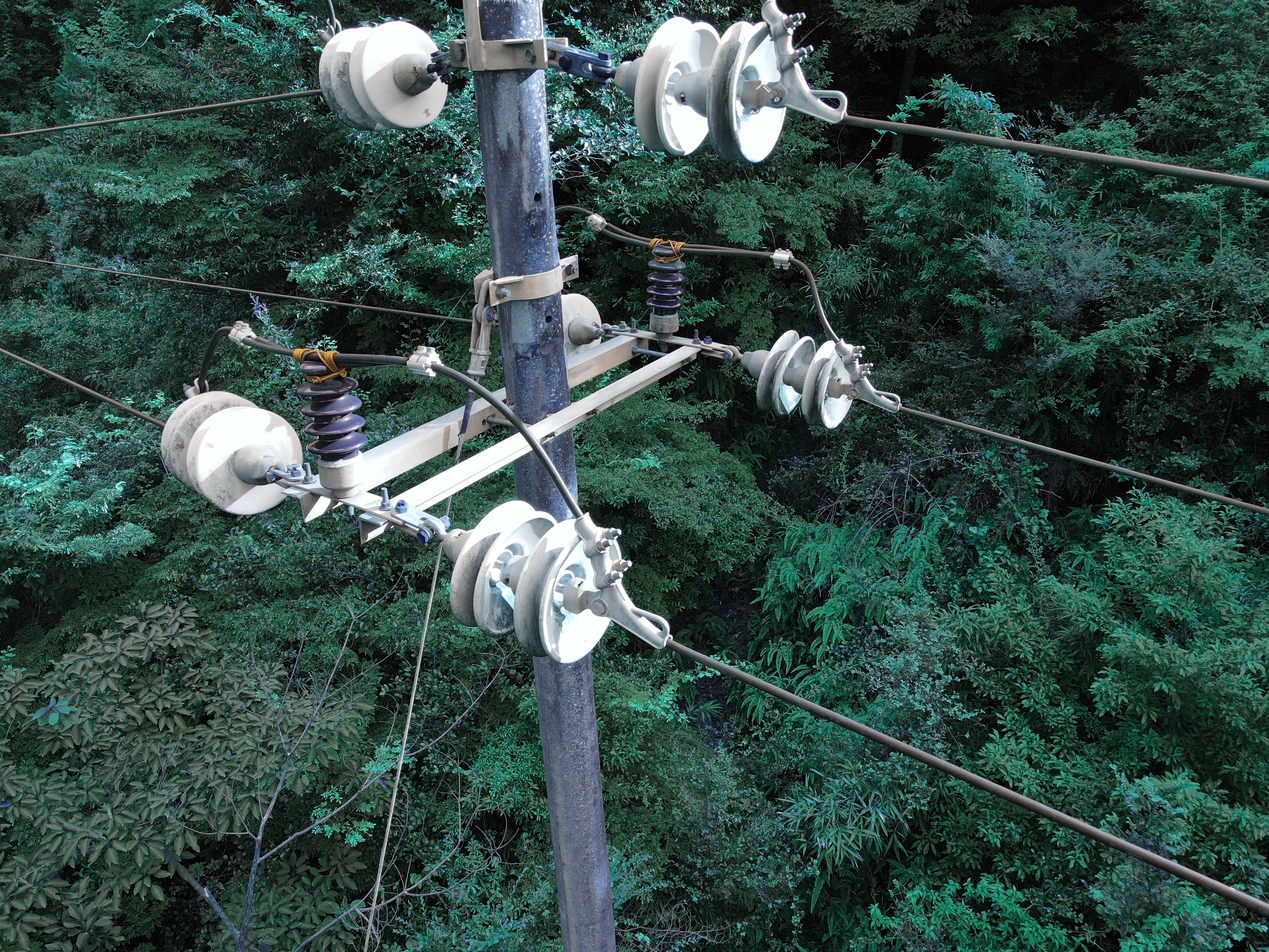severe_soiling_no_discharge_whole: (437, 496, 622, 664), (613, 16, 790, 165), (160, 391, 304, 519), (318, 20, 449, 132), (742, 326, 857, 430)
